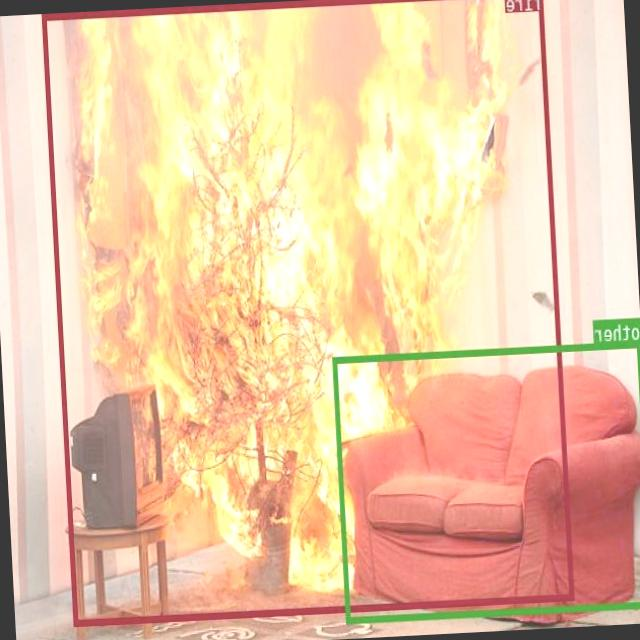fire: (43, 0, 575, 625)
